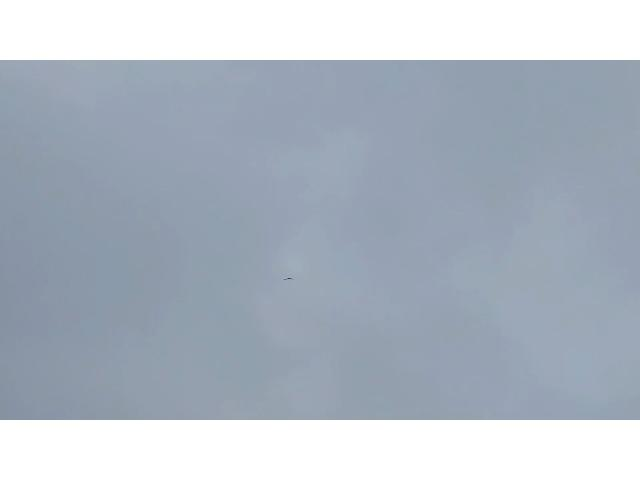Anti-Drone: (284, 278, 294, 280)
